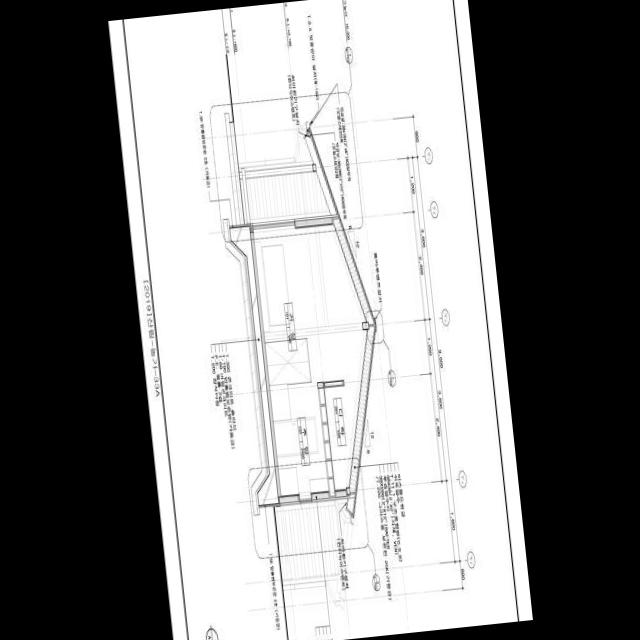background: (108, 0, 532, 640)
space_other: (323, 379, 367, 498)
